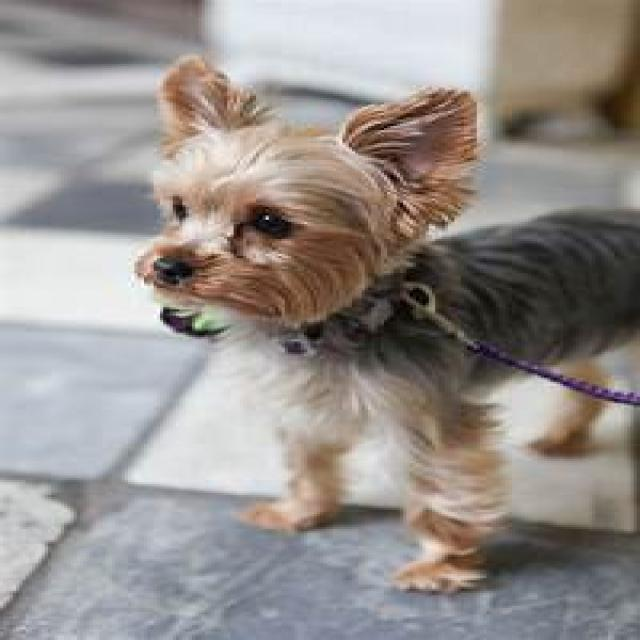KOPEK: (121, 54, 640, 600)
